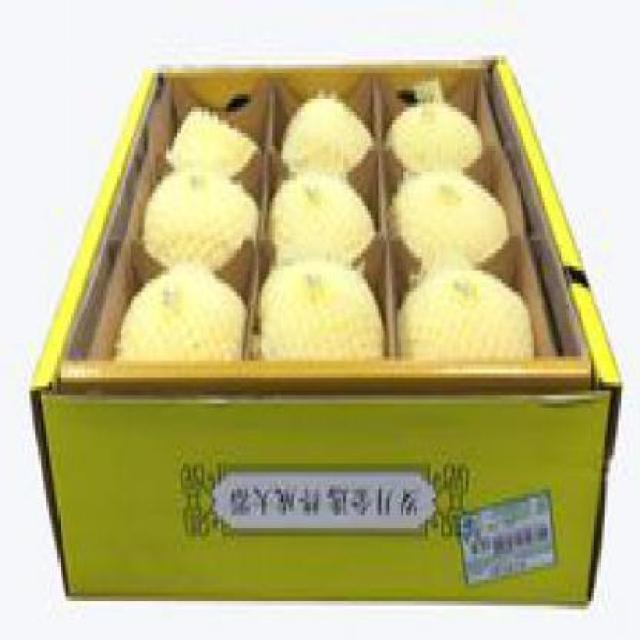box: (28, 49, 629, 633)
